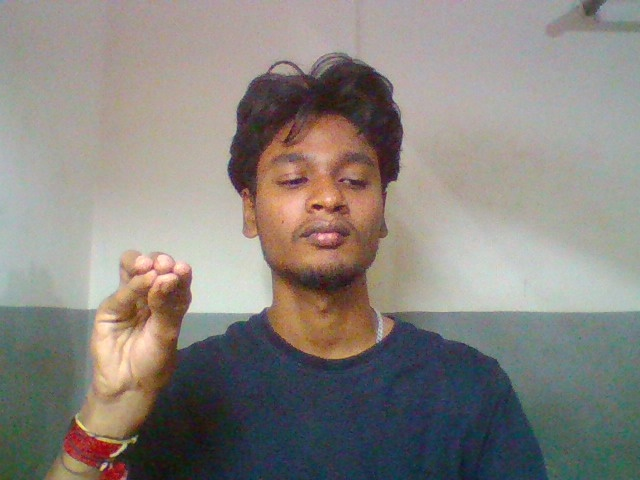Z: (76, 235, 212, 410)
